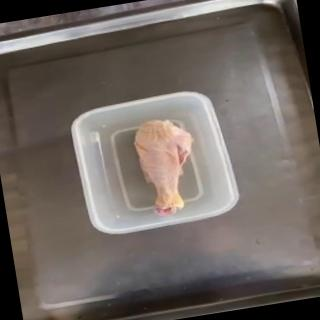Ayam: (129, 115, 206, 221)
